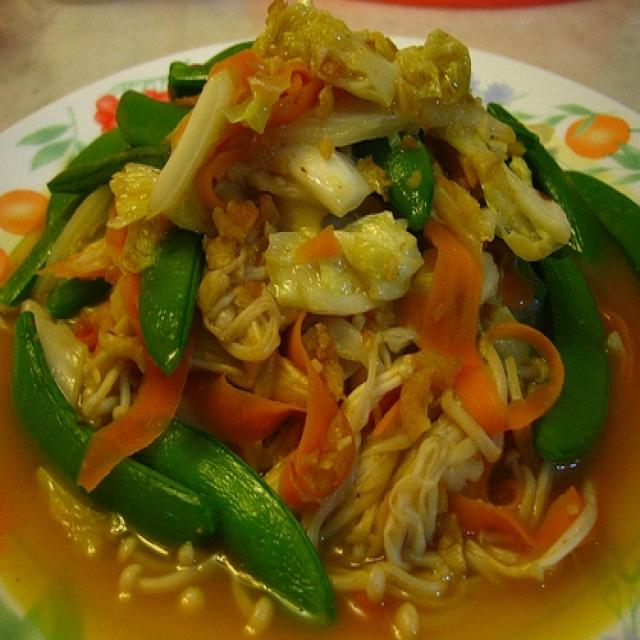蔬菜料理: (19, 17, 613, 613)
